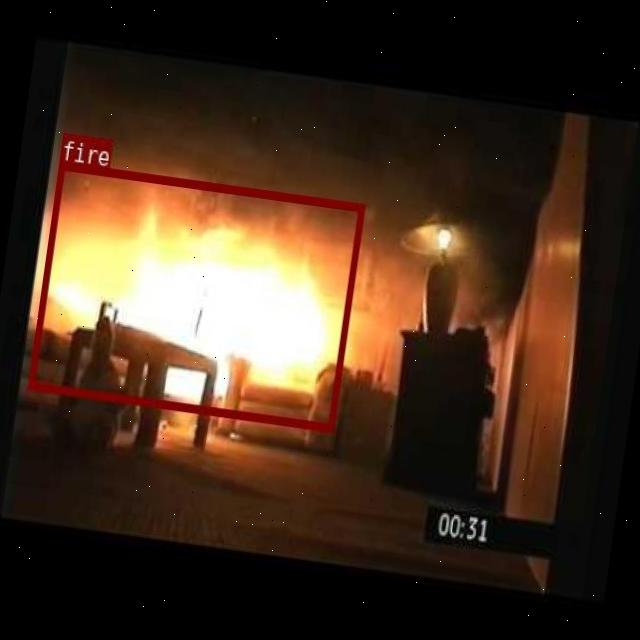fire: (27, 160, 365, 430)
